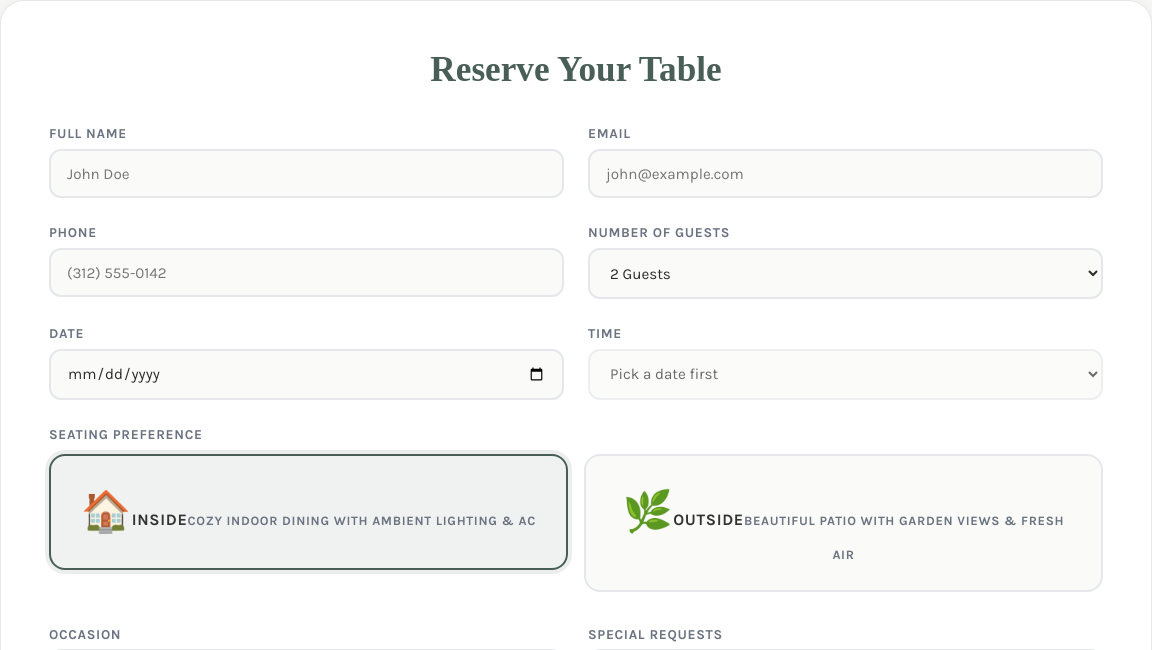
BookingForm › can switch between inside and outside seating
Click the radio button labelled "Outside" at (844, 523), box [584,454,1103,592]
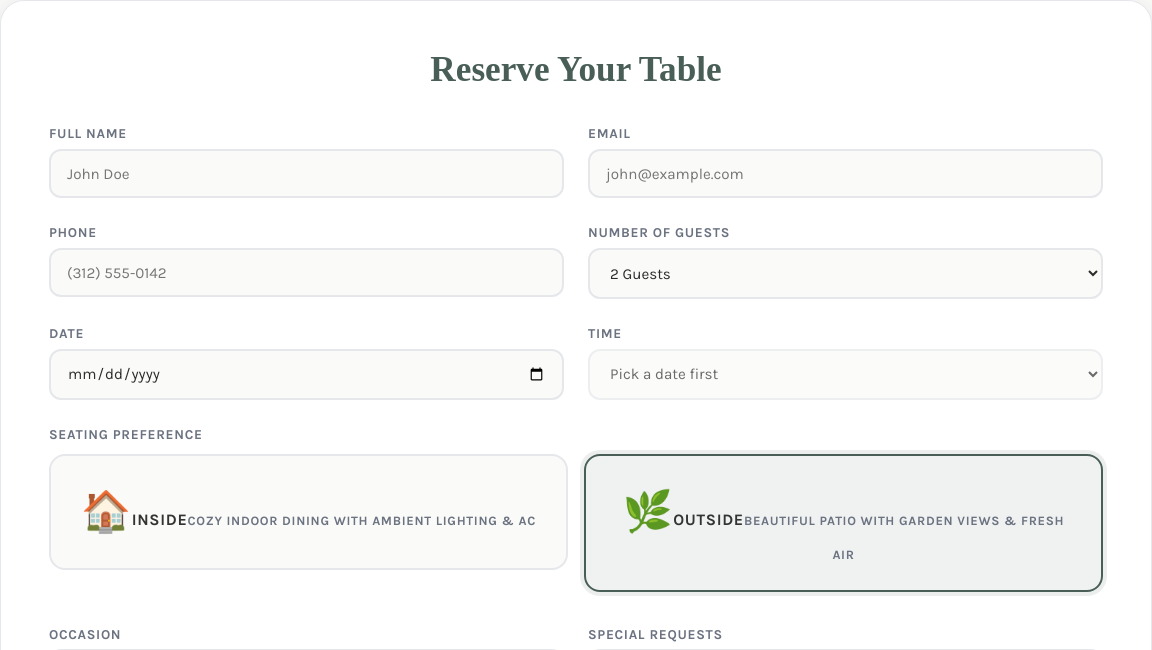
Expected: the radio button labelled "Outside" is checked, [584,454,1103,592]
Expected: the radio button labelled "Inside" is not checked, [49,454,568,570]
